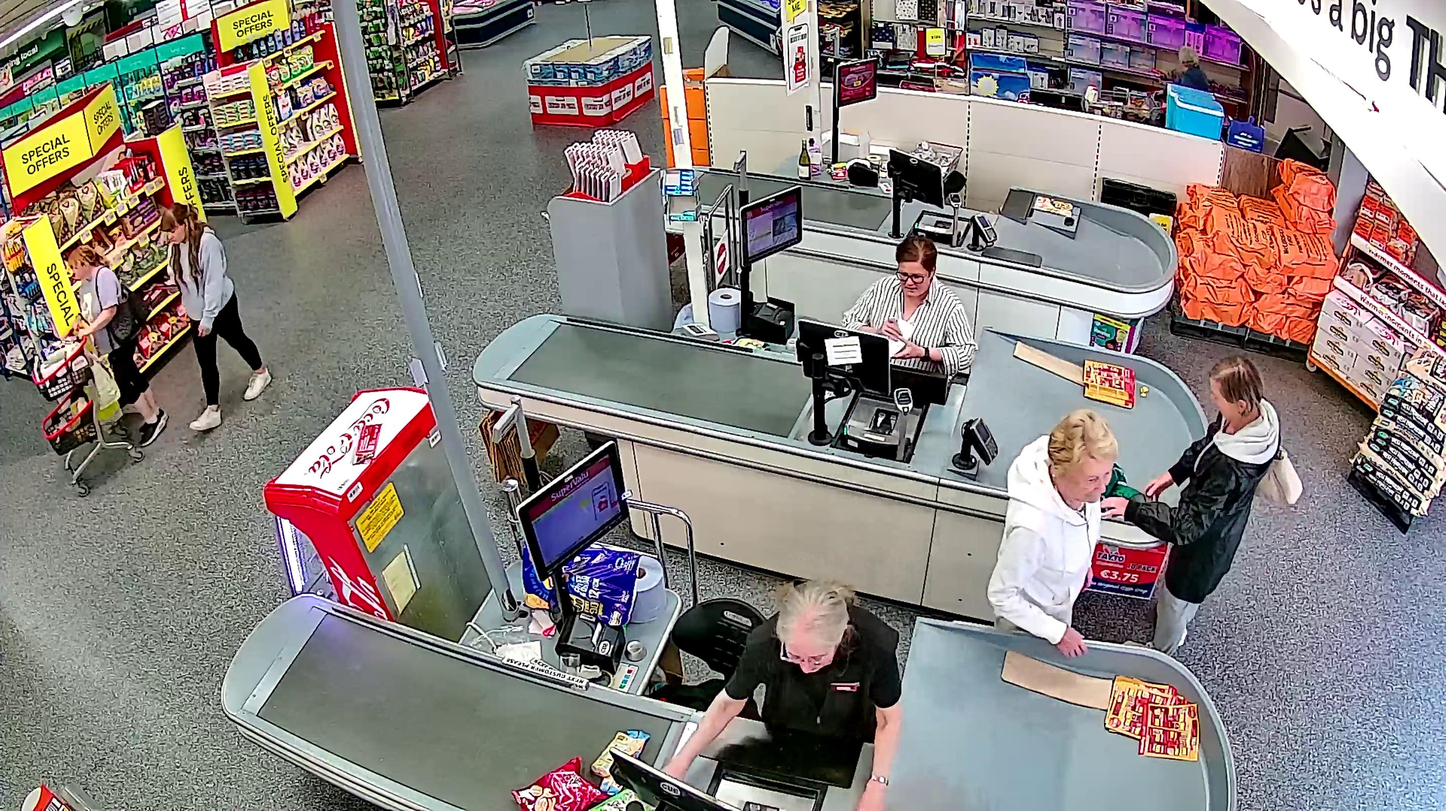filled-trolly: (33, 324, 145, 498)
occupied-checkout-counter: (514, 434, 903, 811), (730, 182, 1000, 490)
person: (69, 248, 170, 447)
person-with-filled-basket-trolly: (33, 249, 169, 496)
vacant-checkout-counter: (834, 50, 999, 256)
